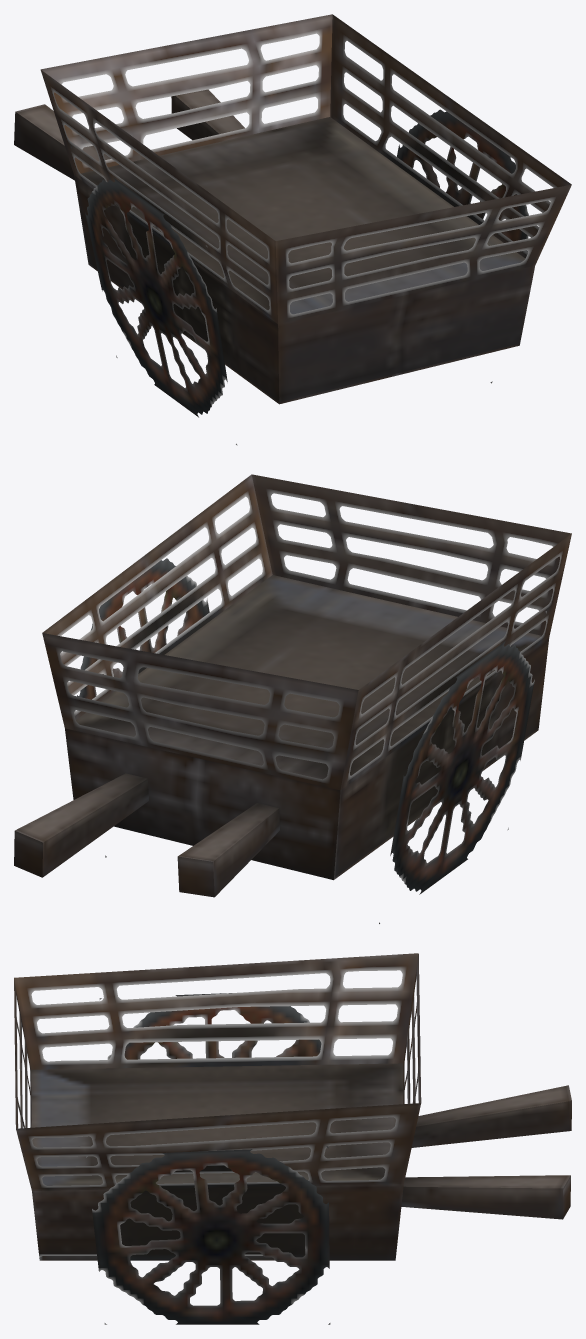
Rendered from Cart.fbx.
3 views of the same model, one above another, from view 1: azimuth 30°, elevation 25°; view 2: azimuth 150°, elevation 25°; view 3: azimuth 270°, elevation 25° (orthographic). The views are drawn at different scales.
Visible parts, largest first — view 1: Cart; view 2: Cart; view 3: Cart.
Boxes of the visible parts, x1=… form: Cart: x1=14, y1=14, x2=571, y2=445; Cart: x1=14, y1=474, x2=571, y2=923; Cart: x1=14, y1=953, x2=571, y2=1324.
Bounding box in the file's own units: 207 × 150 × 314.
